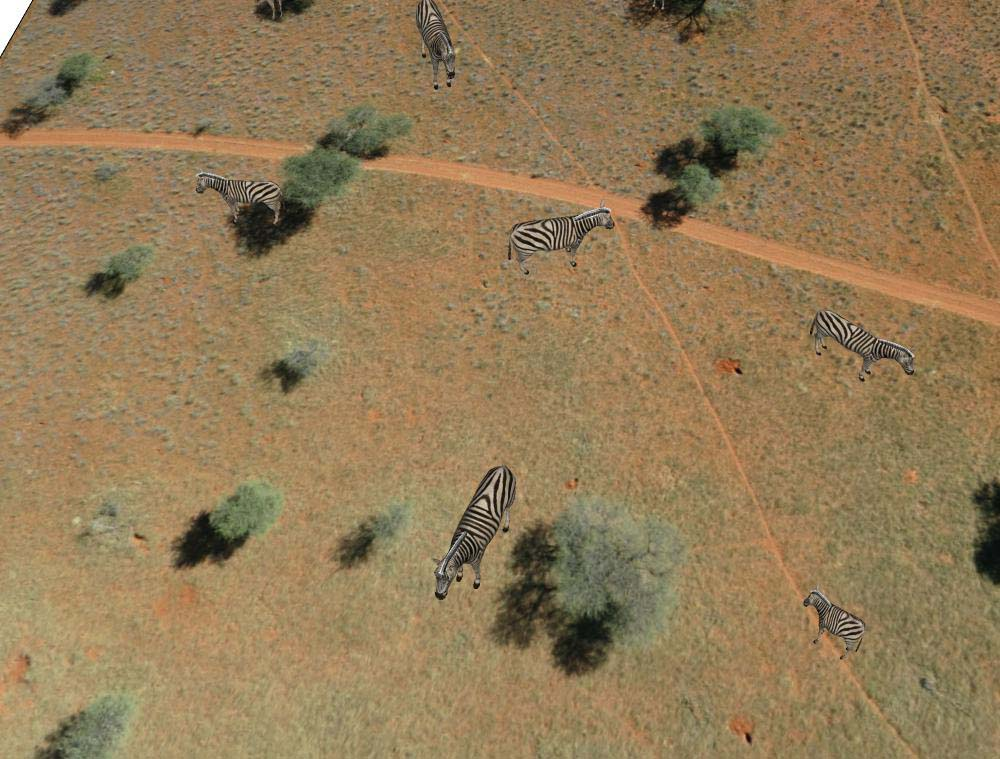zebra: (434, 456, 518, 615), (802, 302, 918, 392), (504, 196, 615, 285), (798, 585, 867, 672), (407, 1, 471, 92), (193, 165, 283, 227)
